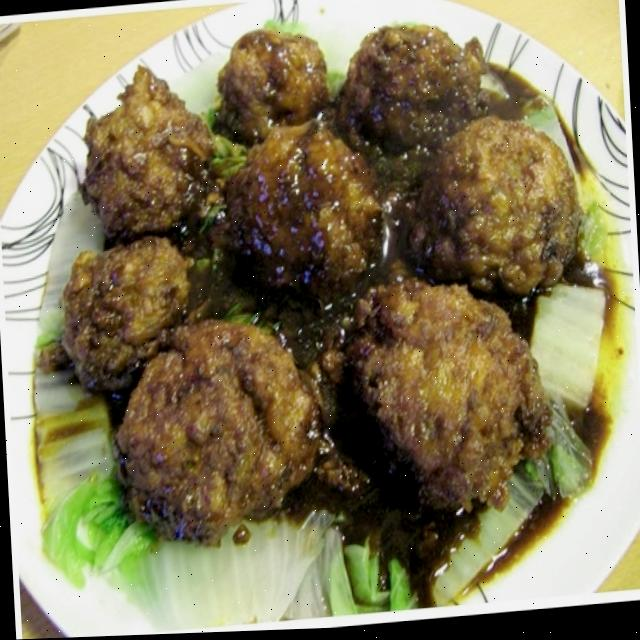猪肉菜式: (22, 0, 624, 618)
